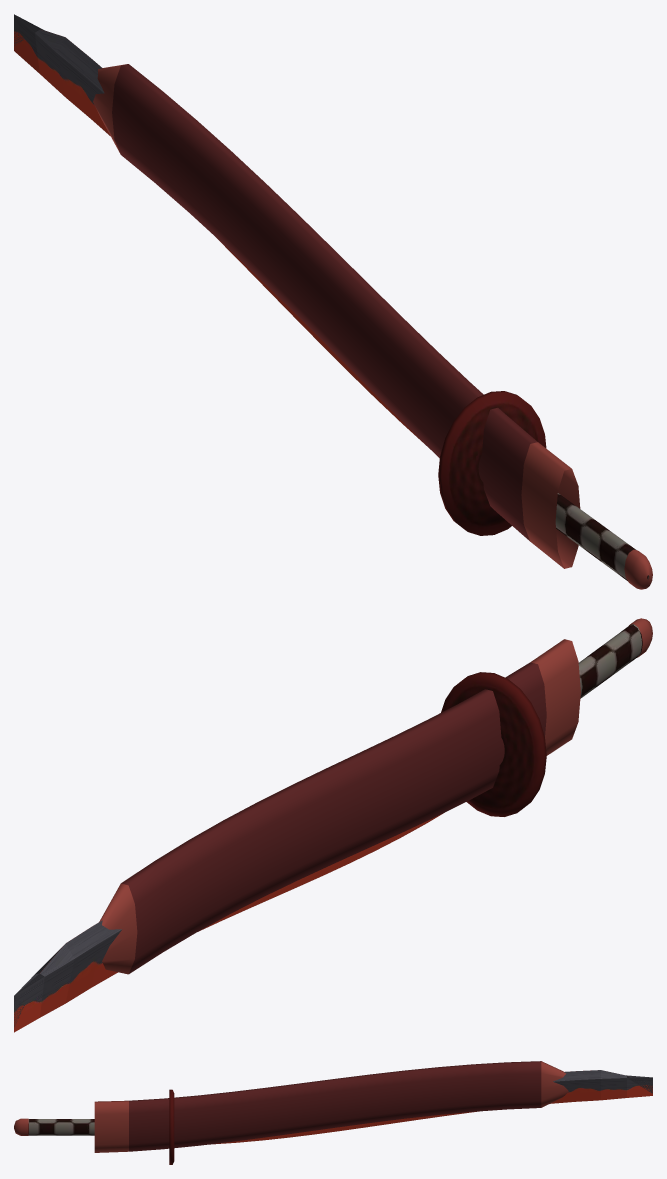
File: odachi.glb
3 renders of one model, top to bottom at view 1: azimuth 30°, elevation 25°; view 2: azimuth 150°, elevation 25°; view 3: azimuth 270°, elevation 25°, orthographic. The views are drawn at different scales.
Parts seen in each view (by area): view 1: sheath, katana; view 2: sheath, katana; view 3: sheath, katana.
Part boxes in pixels (<box>): sheath: <box>93,64,580,568</box>; katana: <box>14,14,652,589</box>; sheath: <box>99,639,580,974</box>; katana: <box>14,618,652,1032</box>; sheath: <box>94,1061,568,1152</box>; katana: <box>14,1070,652,1164</box>.
Size of the model in its own units: 0.141 by 0.2562 by 1.47.
Materials: 5 (3 with a texture image).
